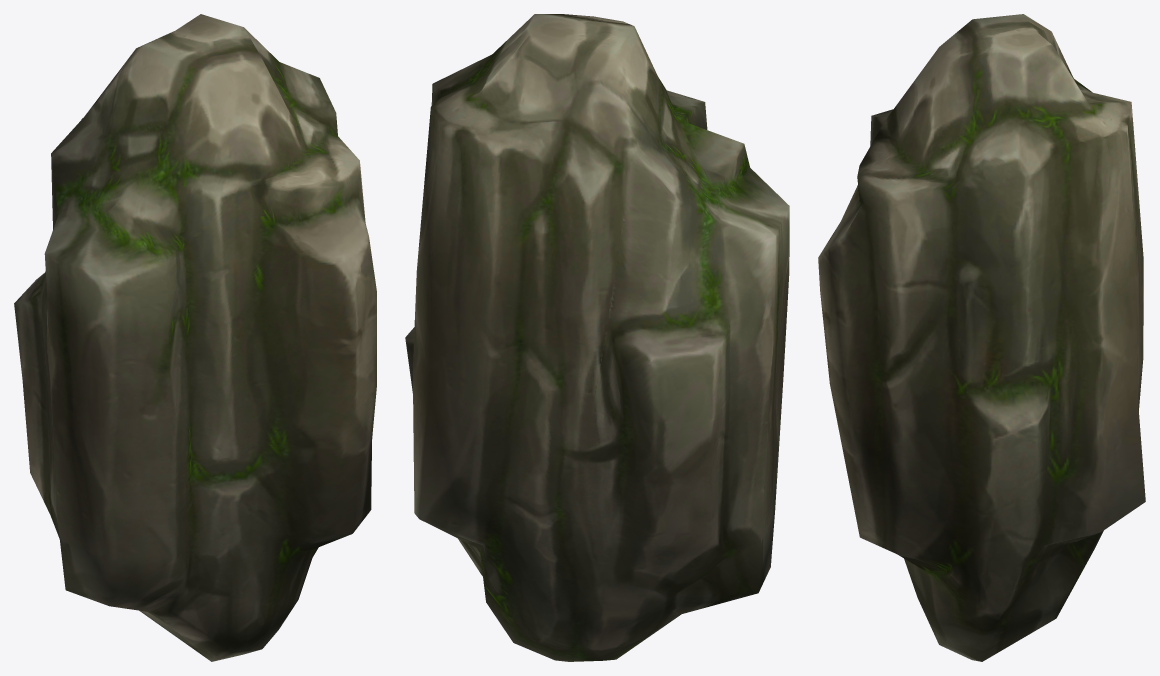
Rendered from RockFormation_4_2 (66).fbx.
The picture shows the model from 3 angles, left to right: view 1: azimuth 30°, elevation 25°; view 2: azimuth 150°, elevation 25°; view 3: azimuth 270°, elevation 25°; orthographic projection. The views are drawn at different scales.
Visible parts, largest first — view 1: RockFormation_4_2 (66); view 2: RockFormation_4_2 (66); view 3: RockFormation_4_2 (66).
Part boxes in pixels (<box>): RockFormation_4_2 (66): <box>14,14,376,661</box>; RockFormation_4_2 (66): <box>405,14,789,661</box>; RockFormation_4_2 (66): <box>818,14,1145,661</box>.
Size of the model in its own units: 270 by 489 by 236.
